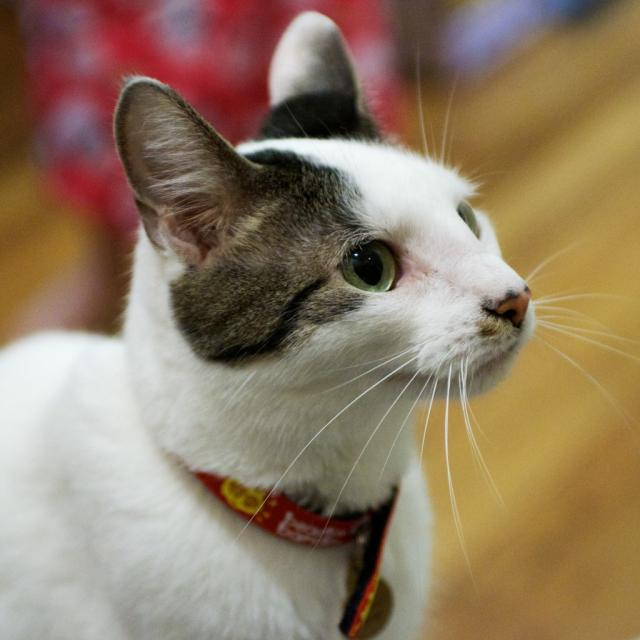Cat: (0, 4, 635, 639)
